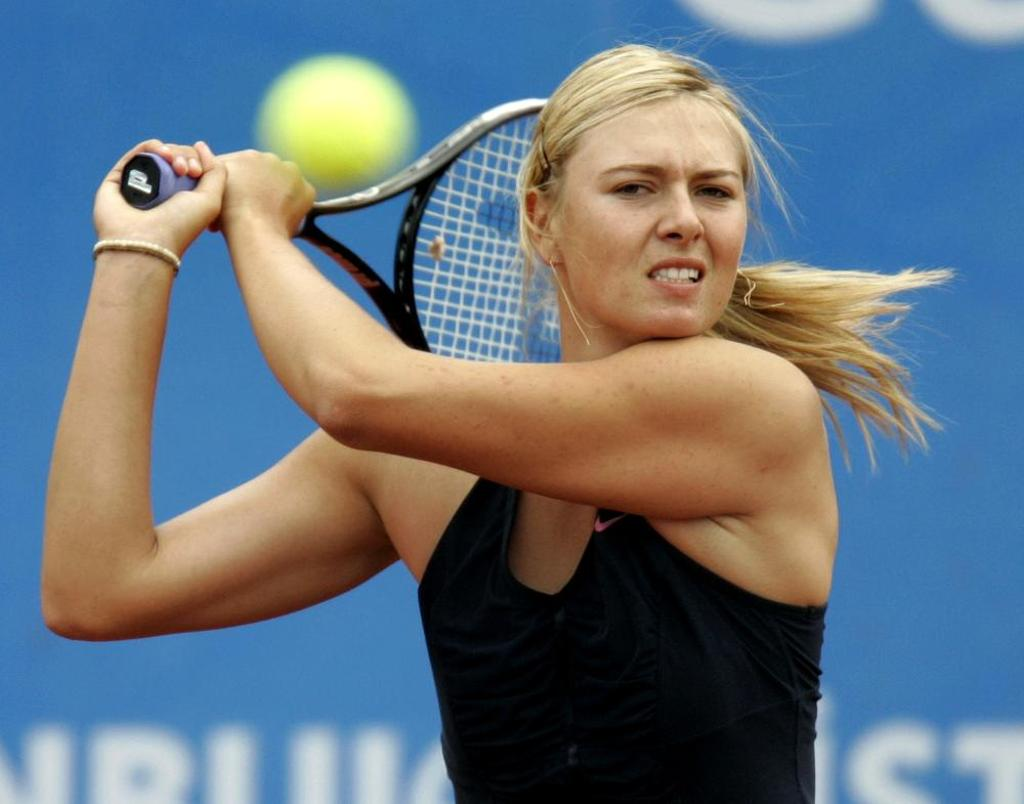face: (562, 94, 746, 336)
